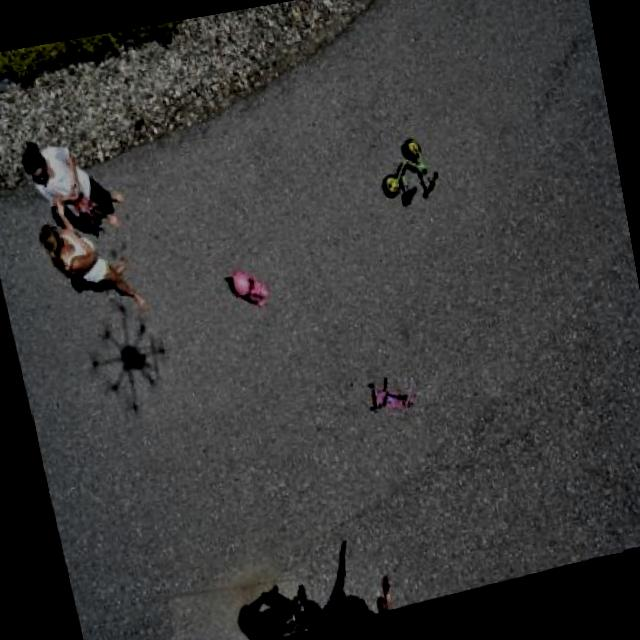Person: (31, 202, 150, 338), (13, 120, 133, 243)
